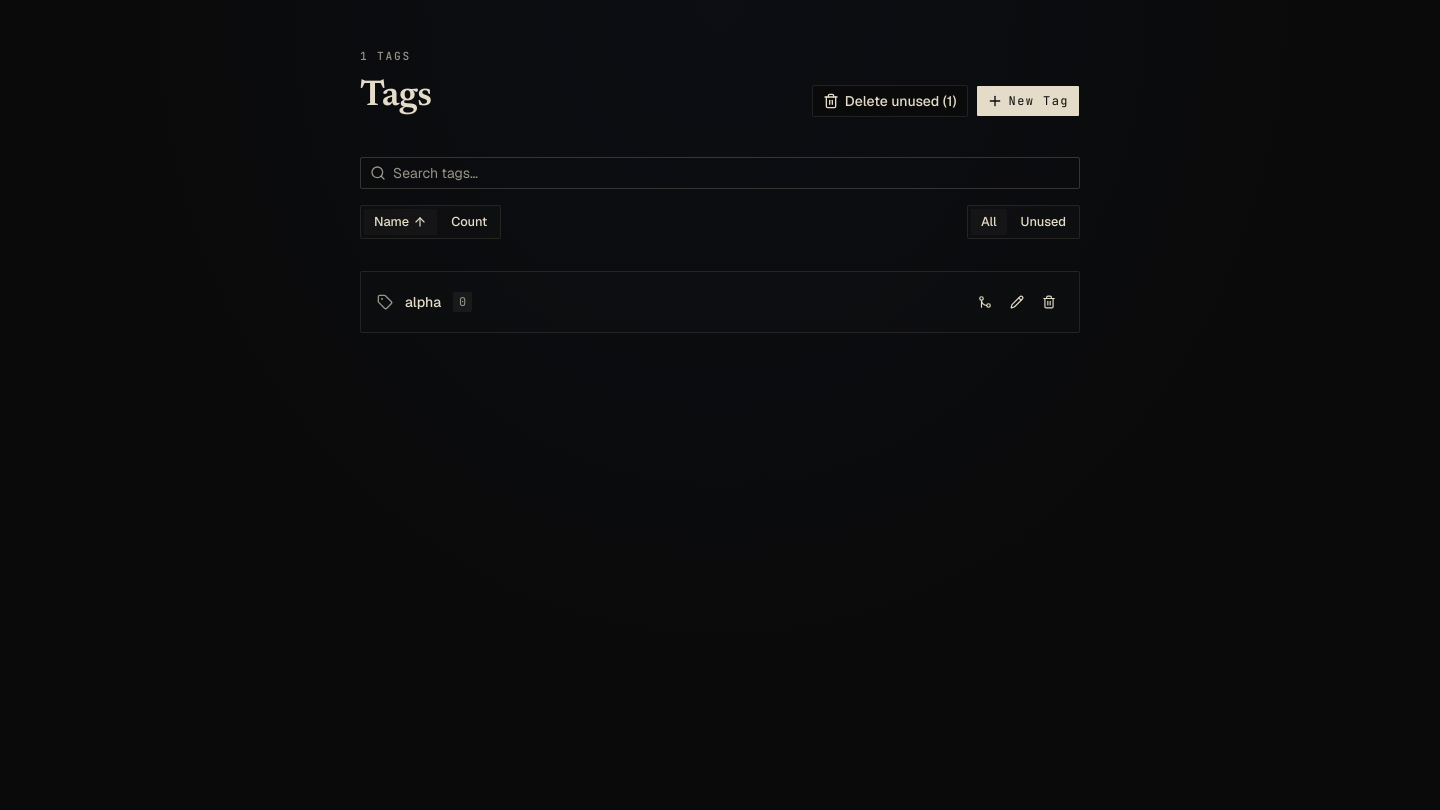
Scenario: TagsPage › blocks creating a duplicate name client-side
The width and height of the screenshot is (1440, 810).
Click the button with test id "new-tag-button" at (1028, 101), box x1=976 y1=85 x2=1080 y2=117
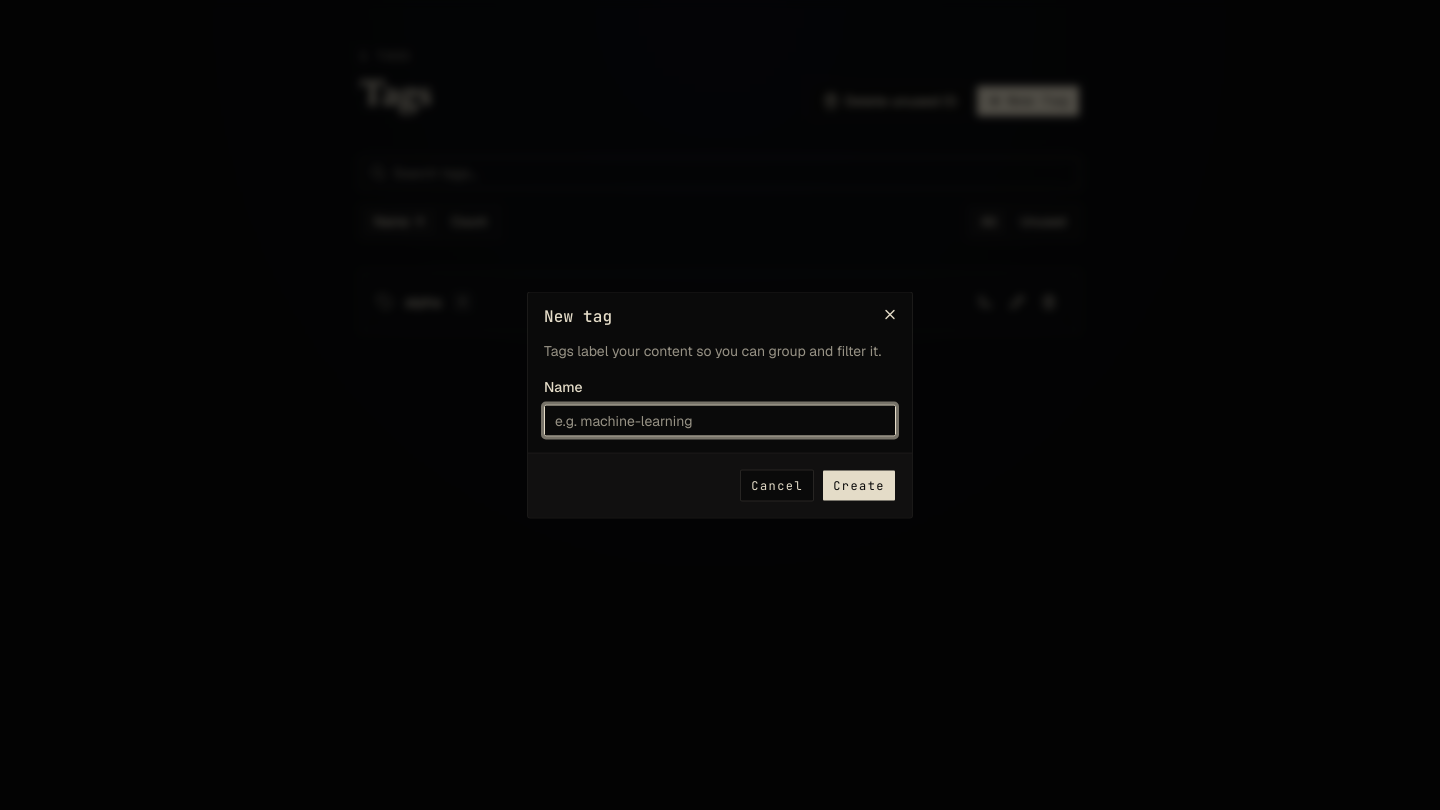
Type "ALPHA" into the field with test id "tag-name-input" at (720, 420), box x1=544 y1=404 x2=896 y2=436
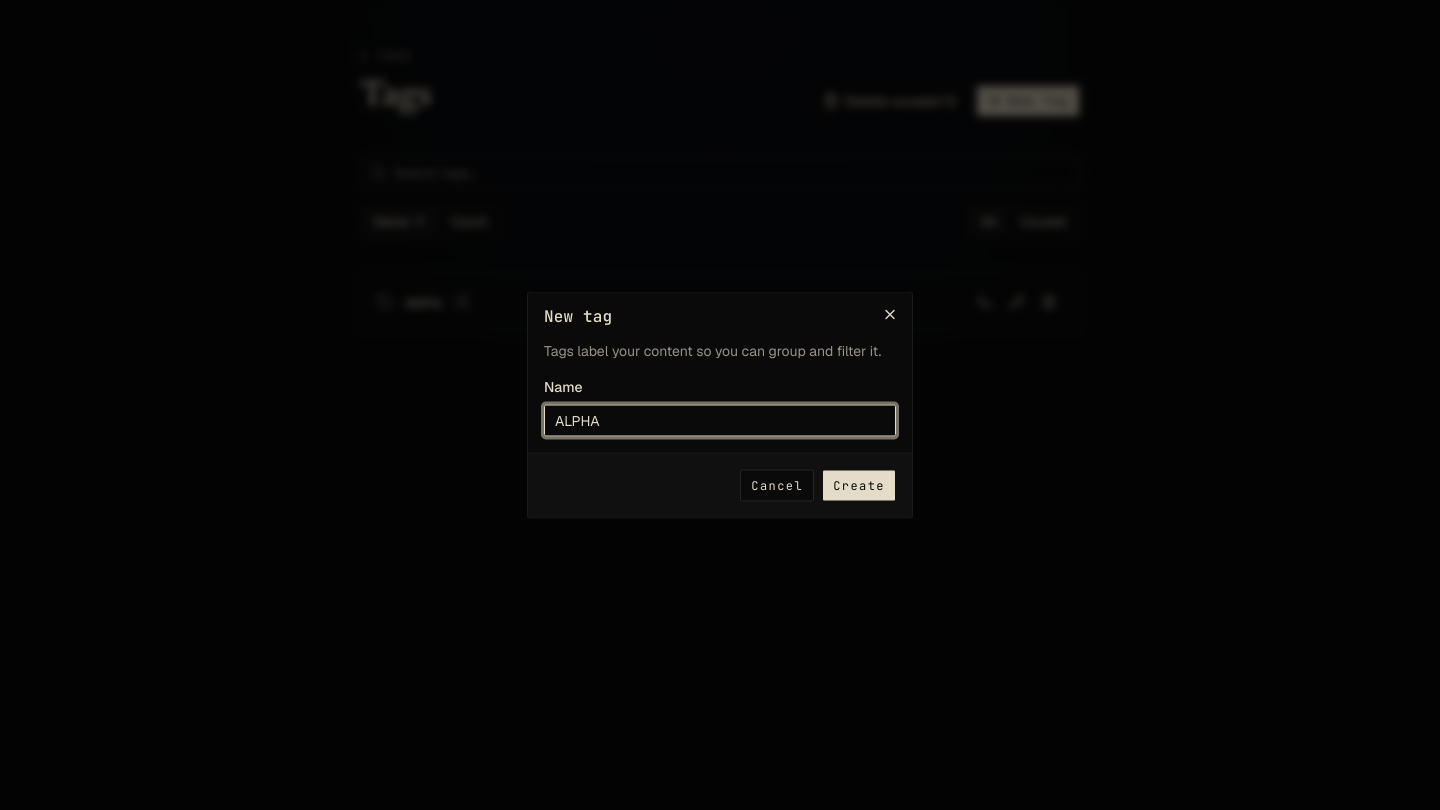
Click the button with test id "tag-form-submit" at (859, 486), box x1=822 y1=470 x2=896 y2=502
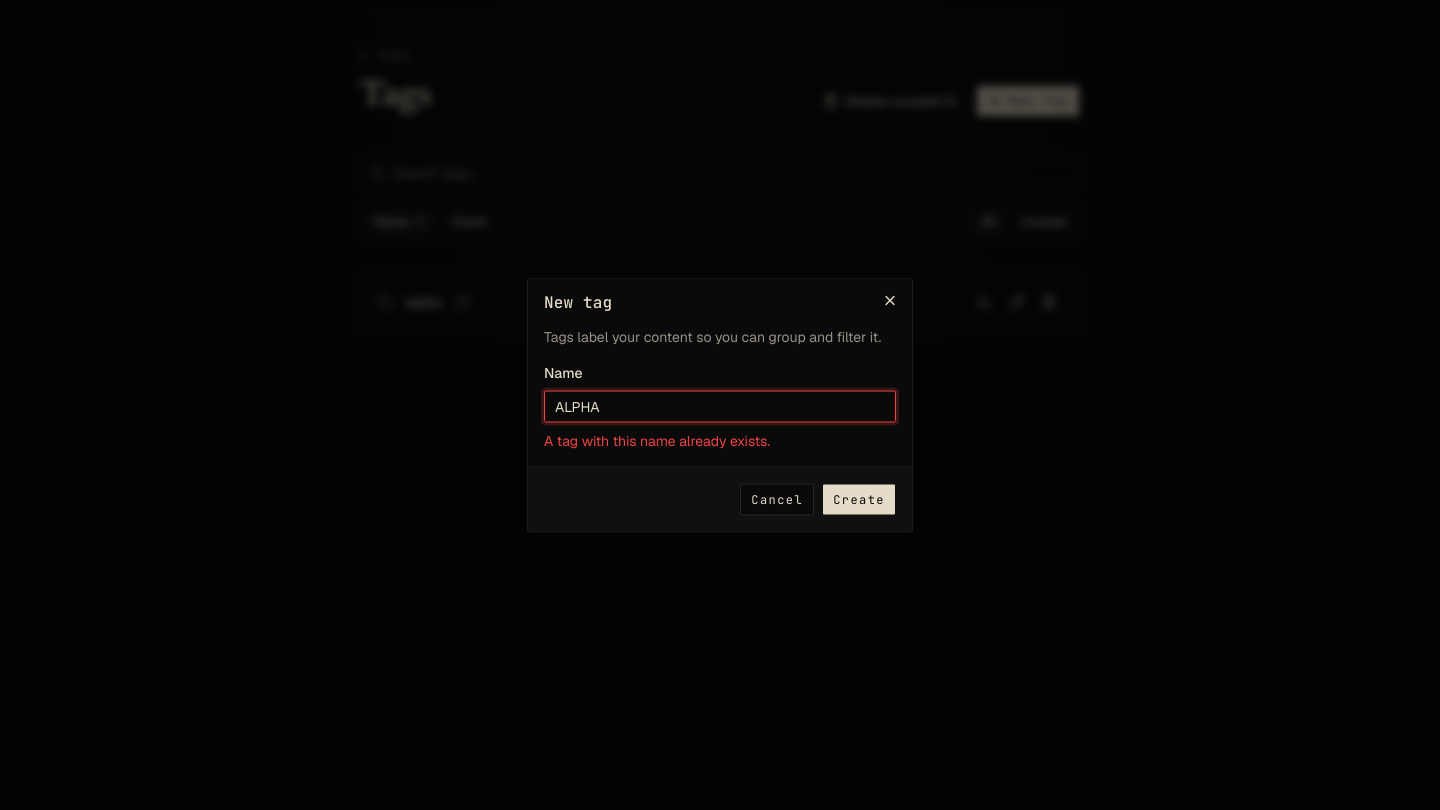
expect the message "A tag with this name already exists." is shown: met, box x1=544 y1=432 x2=770 y2=450
